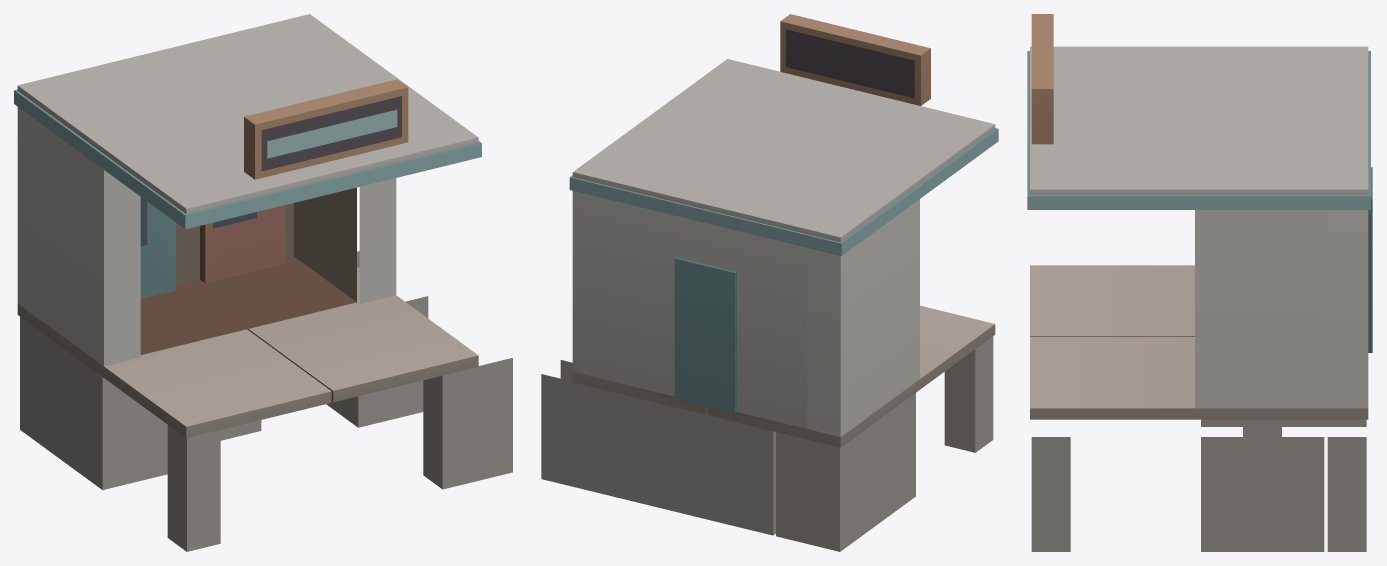
Rendered from vending.lod2.glb.
3 renders of one model, left to right at view 1: azimuth 30°, elevation 25°; view 2: azimuth 150°, elevation 25°; view 3: azimuth 270°, elevation 25°, orthographic. The views are drawn at different scales.
Size of the model in its own units: 4.51 by 5.37 by 4.08.
